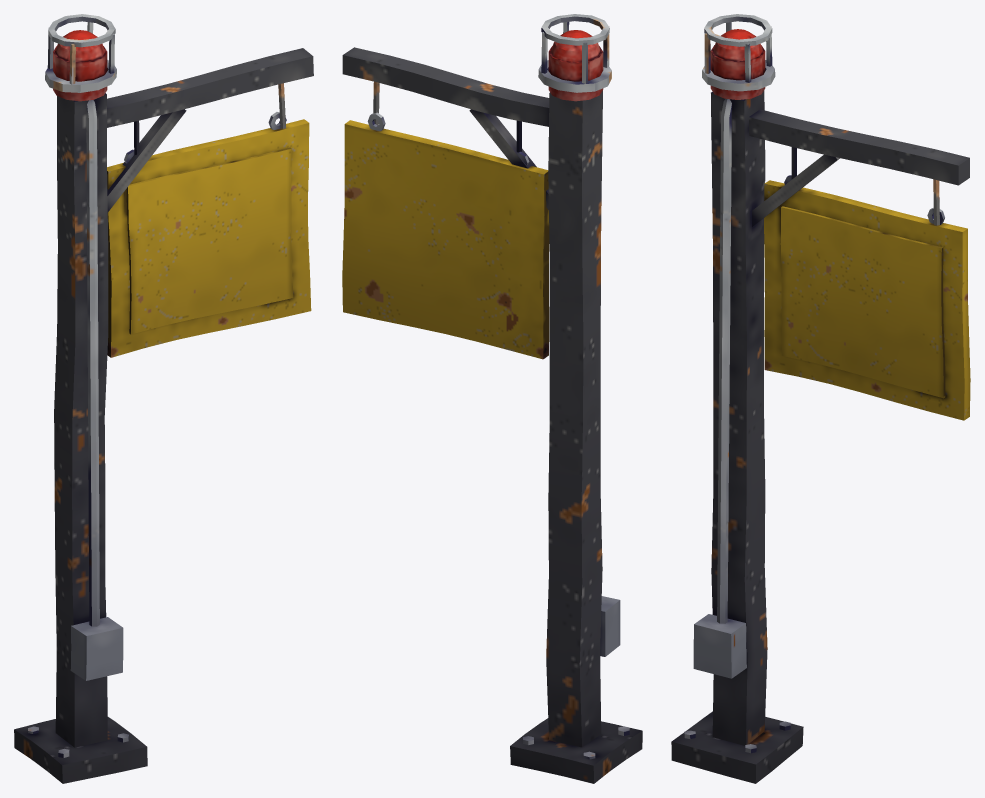
Rendered from PlotMarker.glb.
The picture shows the model from 3 angles, left to right: view 1: azimuth 30°, elevation 25°; view 2: azimuth 150°, elevation 25°; view 3: azimuth 330°, elevation 25°; orthographic projection.
Visible parts, largest first — view 1: Post, Sign, Fittings, Lamp; view 2: Post, Sign, Fittings, Lamp; view 3: Post, Sign, Fittings, Lamp.
Part boxes in pixels (x1=…): Post: x1=14, y1=48, x2=313, y2=783; Sign: x1=107, y1=119, x2=311, y2=357; Fittings: x1=28, y1=14, x2=286, y2=757; Lamp: x1=53, y1=30, x2=107, y2=101; Post: x1=342, y1=47, x2=642, y2=783; Sign: x1=342, y1=120, x2=549, y2=359; Fittings: x1=367, y1=14, x2=629, y2=759; Lamp: x1=548, y1=30, x2=603, y2=101; Post: x1=671, y1=90, x2=969, y2=783; Sign: x1=764, y1=180, x2=970, y2=420; Fittings: x1=684, y1=14, x2=944, y2=753; Lamp: x1=710, y1=29, x2=765, y2=99.
Bounding box in the file's own units: 2.99 × 7.69 × 0.9479.
Materials: 4 (4 with a texture image).
